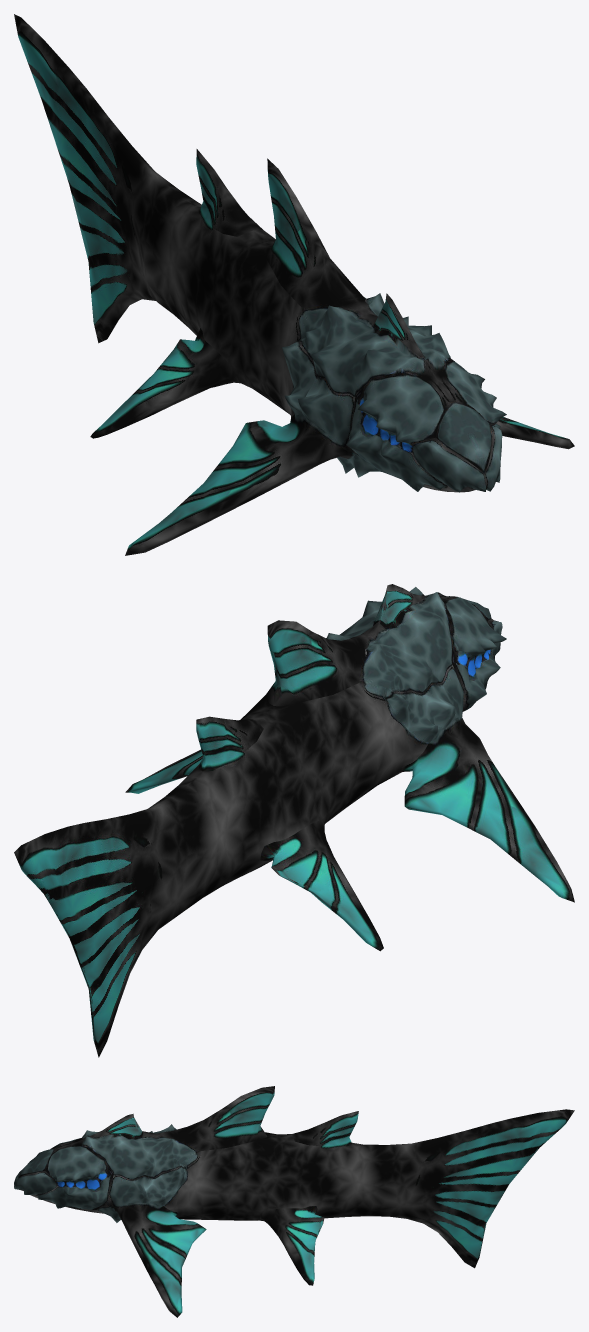
The model's file is SpineFish_LP.glb.
3 views of the same model, one above another, from view 1: azimuth 30°, elevation 25°; view 2: azimuth 150°, elevation 25°; view 3: azimuth 270°, elevation 25° (orthographic). The views are drawn at different scales.
Parts seen in each view (by area): view 1: retopo; view 2: retopo; view 3: retopo.
Boxes of the visible parts, x1=… form: retopo: x1=14, y1=14, x2=574, y2=555; retopo: x1=14, y1=584, x2=574, y2=1057; retopo: x1=14, y1=1086, x2=574, y2=1317.
Size of the model in its own units: 0.7165 by 0.4693 by 1.31.
1 material, 1 textured.
